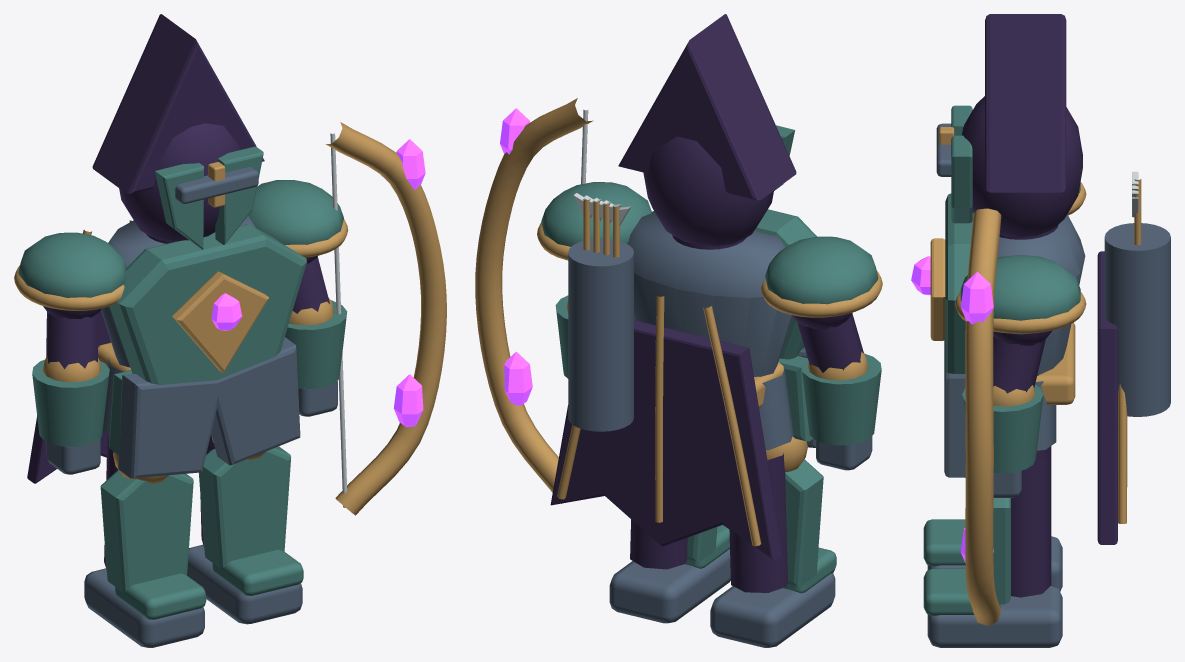
The model's file is moonsteel-convergence-vesper-huntress-6673e902__18170.glb.
3 views of the same model, side by side, from view 1: azimuth 30°, elevation 25°; view 2: azimuth 150°, elevation 25°; view 3: azimuth 270°, elevation 25° (orthographic). The views are drawn at different scales.
Visible parts, largest first — view 1: vesper-huntress; view 2: vesper-huntress; view 3: vesper-huntress.
Boxes of the visible parts, x1,y1,x2,y2 form: vesper-huntress: [14, 14, 446, 647]; vesper-huntress: [475, 14, 882, 647]; vesper-huntress: [911, 14, 1170, 647].
Bounding box in the file's own units: 1.9 × 2.59 × 1.02.
